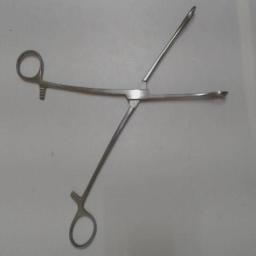Sponge Forceps: (12, 0, 236, 252)
